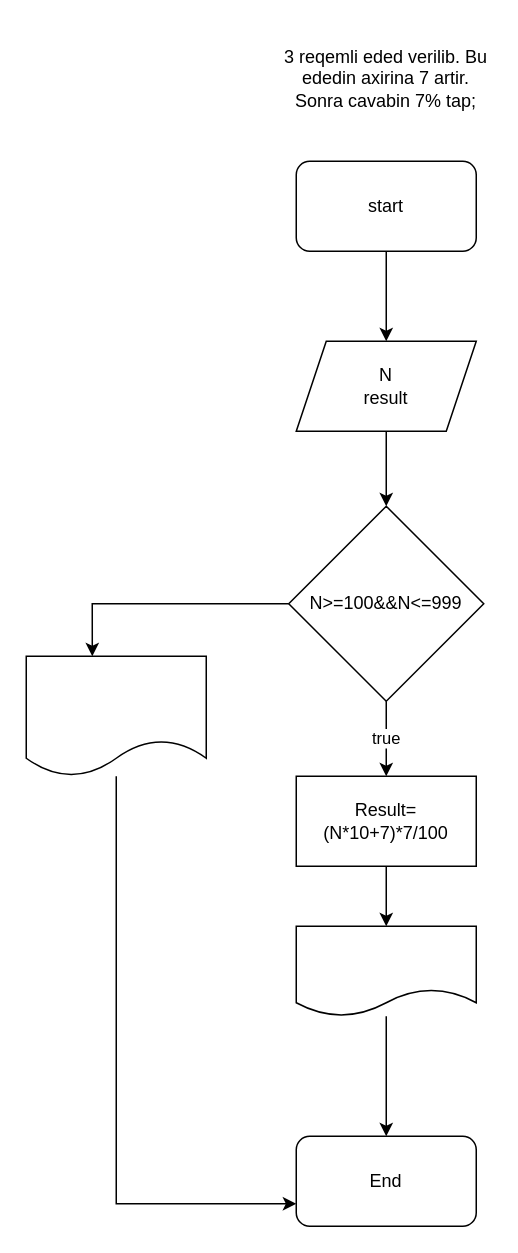
This 518x1253 diagram has some shape labels left out. The shapes that lost their labels are listed below. From the top down, each one's centre as x and y in pixels, then its label:
the point at 115,715: Daxil etdiyiniz eded 3 reqemli deyil
the point at 385,970: Result
